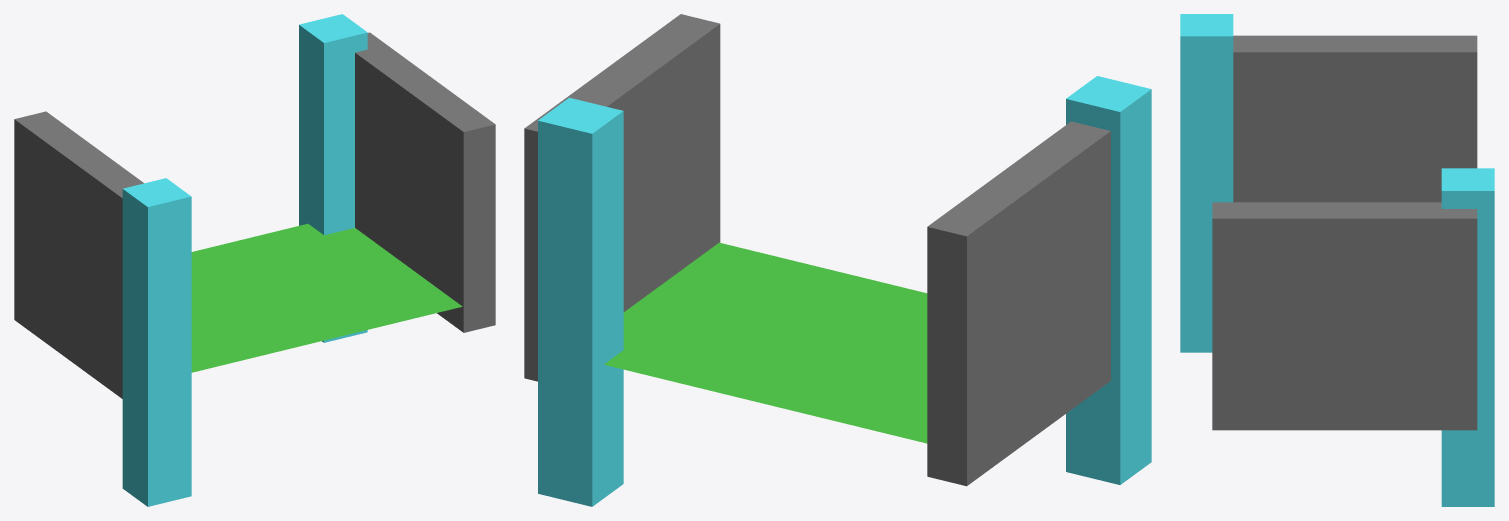
File: TrenchSegEmpty.fbx
The picture shows the model from 3 angles, left to right: view 1: azimuth 30°, elevation 25°; view 2: azimuth 150°, elevation 25°; view 3: azimuth 270°, elevation 25°; orthographic projection. The views are drawn at different scales.
Visible parts, largest first — view 1: Cube.001, Cube.002, Plane, Cube, Cube.003; view 2: Cube.002, Plane, Cube.003, Cube.001, Cube; view 3: Cube.001, Cube.002, Cube, Cube.003.
Boxes of the visible parts, x1,y1,x2,y2 form: Cube.001: [355, 32, 495, 332]; Cube.002: [14, 111, 143, 398]; Plane: [191, 223, 462, 372]; Cube: [122, 178, 191, 506]; Cube.003: [299, 14, 367, 342]; Cube.002: [927, 121, 1110, 486]; Plane: [604, 242, 927, 443]; Cube.003: [538, 97, 623, 506]; Cube.001: [524, 14, 720, 381]; Cube: [1066, 76, 1151, 484]; Cube.001: [1212, 202, 1477, 430]; Cube.002: [1233, 35, 1477, 202]; Cube: [1180, 14, 1233, 352]; Cube.003: [1441, 168, 1494, 506].
Size of the model in its own units: 969 by 765 by 690.
